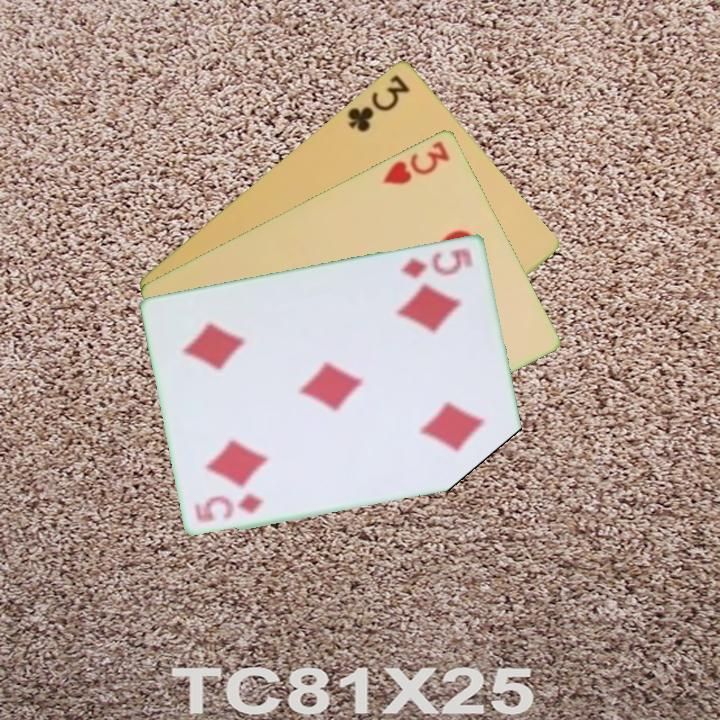3c: (344, 70, 414, 135)
3h: (379, 137, 453, 187)
5d: (397, 244, 476, 280), (191, 490, 267, 525)
